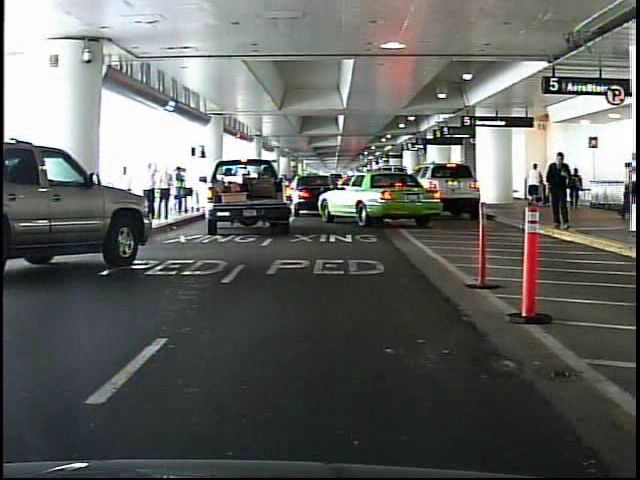person: (546, 145, 578, 235), (568, 168, 585, 212), (528, 161, 543, 208)
